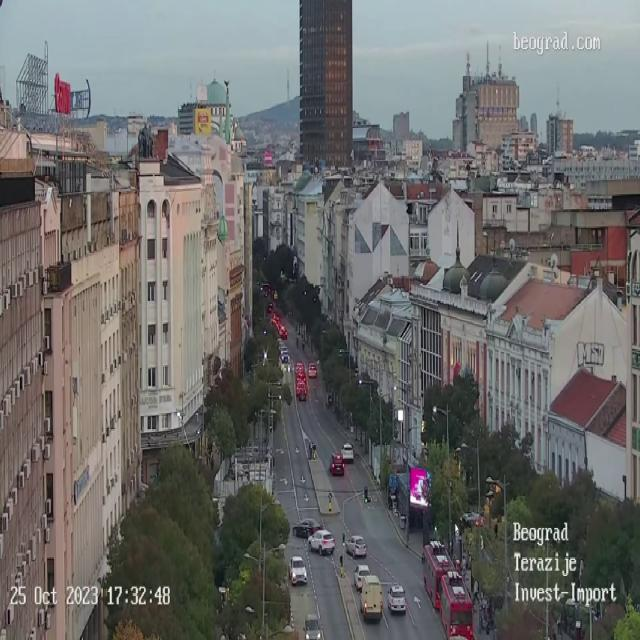bus: (424, 543, 457, 608), (440, 572, 472, 638)
car: (362, 576, 381, 620), (308, 530, 337, 554), (387, 583, 406, 614), (289, 556, 307, 586), (347, 533, 367, 557), (294, 519, 318, 538), (304, 614, 322, 639), (356, 565, 372, 591), (329, 454, 343, 475), (342, 444, 354, 461), (296, 385, 307, 399), (296, 373, 307, 385), (308, 362, 317, 376), (297, 362, 305, 374), (281, 352, 289, 363)
